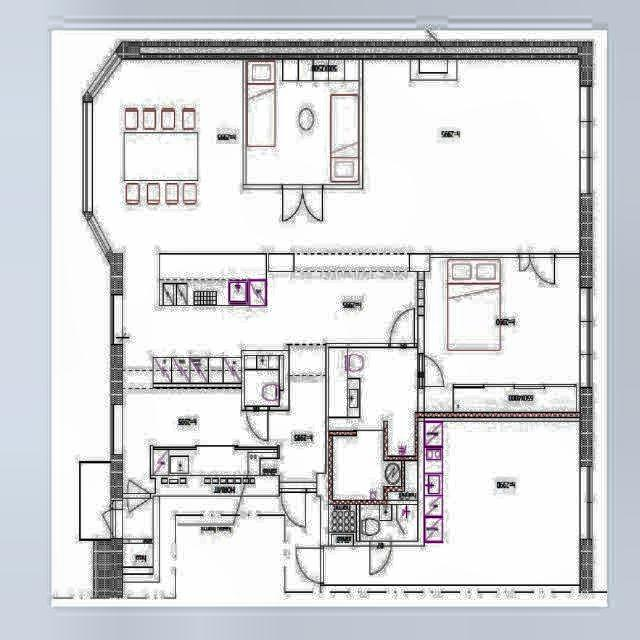room: (324, 422, 580, 585), (425, 258, 580, 412), (246, 60, 359, 184), (329, 348, 417, 456), (333, 436, 401, 500), (360, 505, 417, 541), (245, 356, 283, 406)
